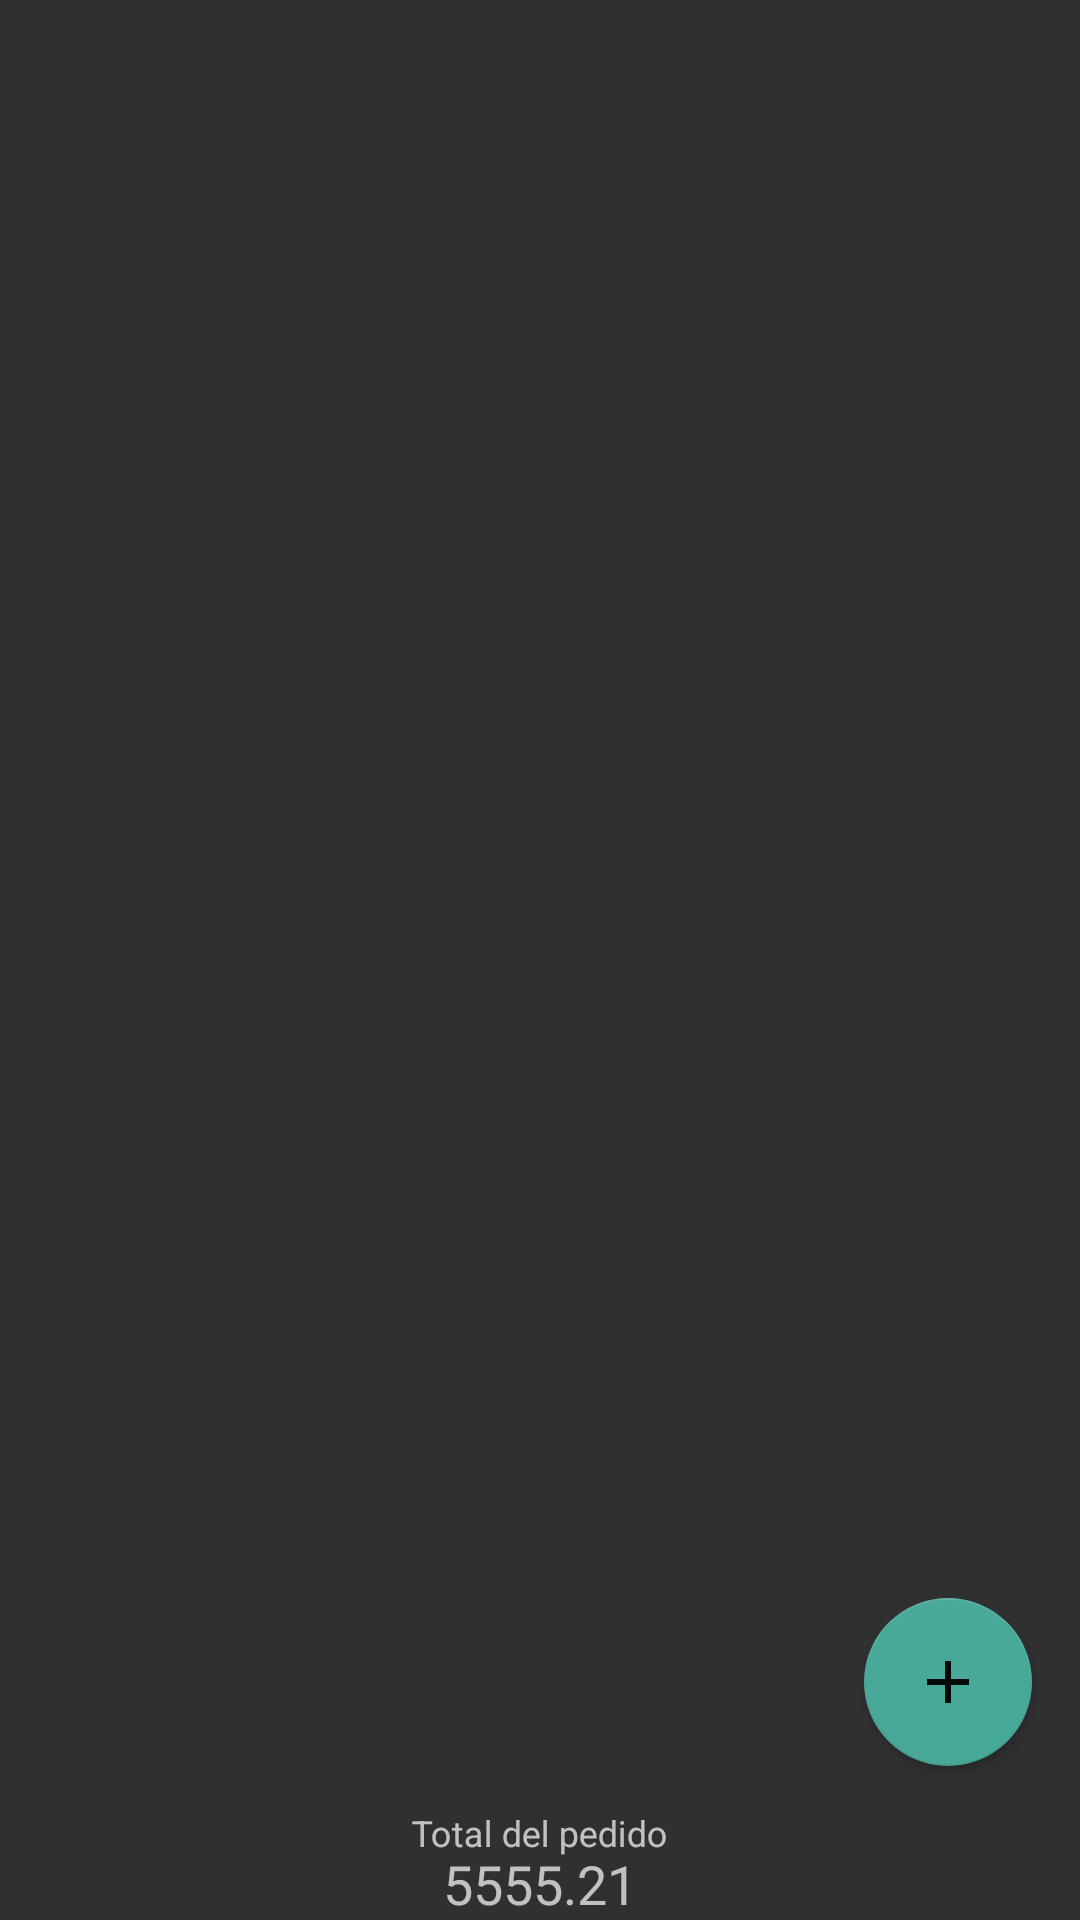

Point at icon controls on the screen. Image size 1080 × 1920, points as (x,y).
add: (948,1682)
